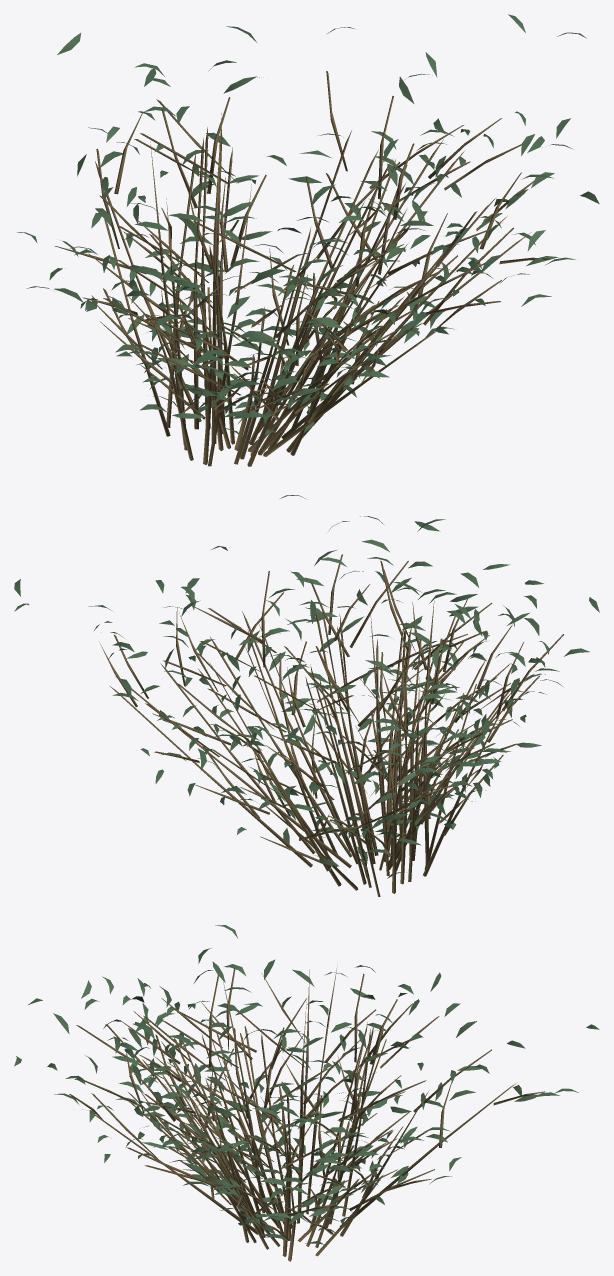
File: Romarin_Incline_LOD2.fbx
3 views of the same model, one above another, from view 1: azimuth 30°, elevation 25°; view 2: azimuth 150°, elevation 25°; view 3: azimuth 270°, elevation 25° (orthographic). The views are drawn at different scales.
Visible parts, largest first — view 1: Romarin_Incline_LOD2; view 2: Romarin_Incline_LOD2; view 3: Romarin_Incline_LOD2.
Part boxes in pixels (box(x1,y1,x2,y2)): Romarin_Incline_LOD2: box(17, 14, 599, 466); Romarin_Incline_LOD2: box(14, 495, 599, 896); Romarin_Incline_LOD2: box(14, 925, 599, 1261).
Bounding box in the file's own units: 92.67 × 54.06 × 103.
